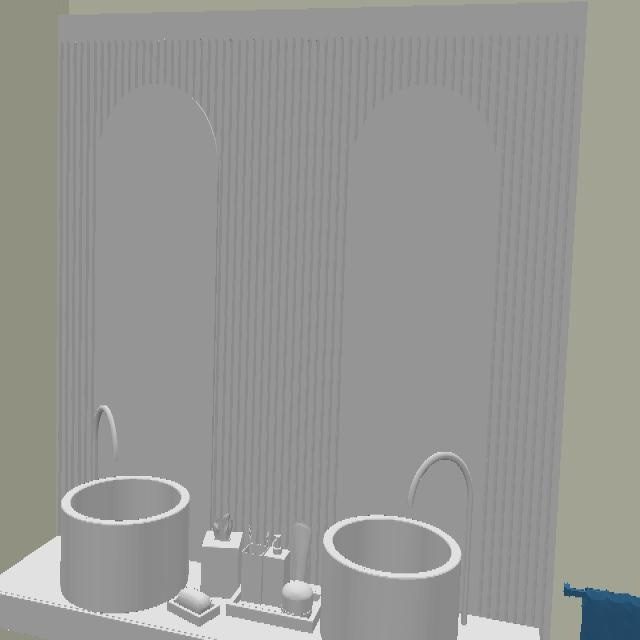washbasin: (65, 472, 192, 615), (320, 515, 464, 640)
